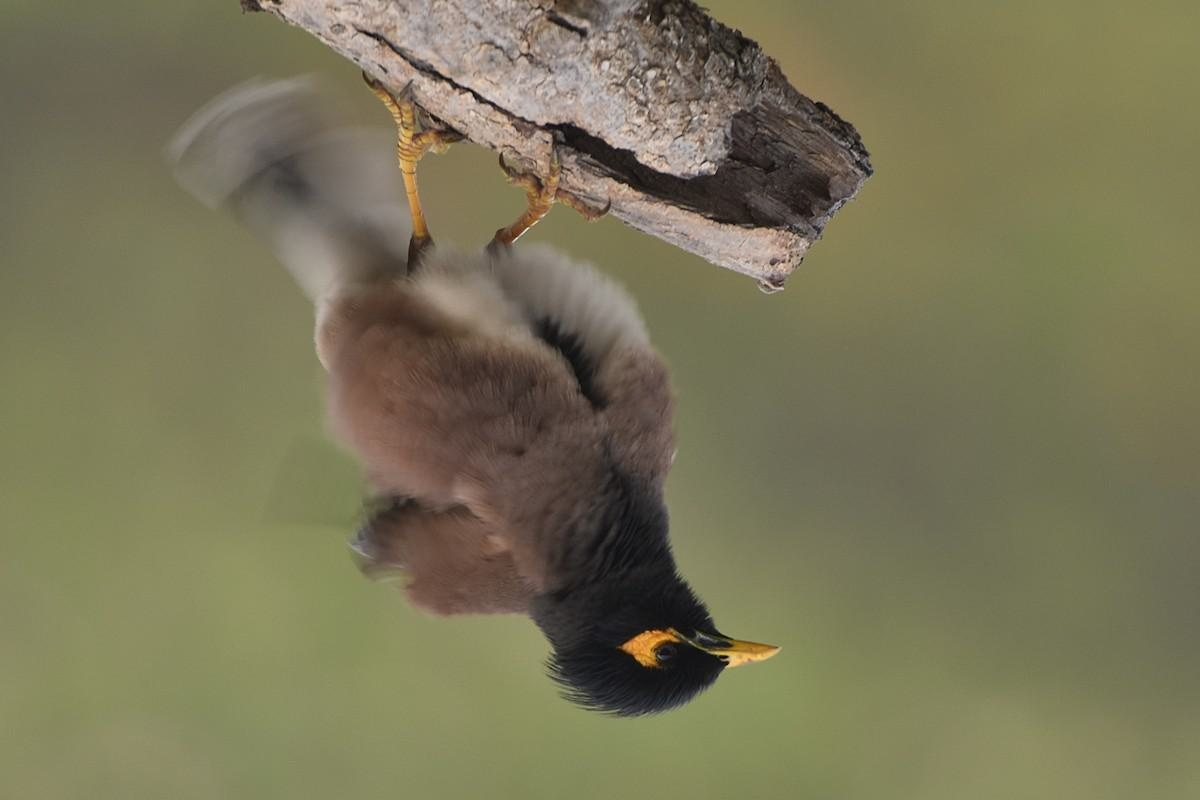myna: (266, 32, 791, 736)
